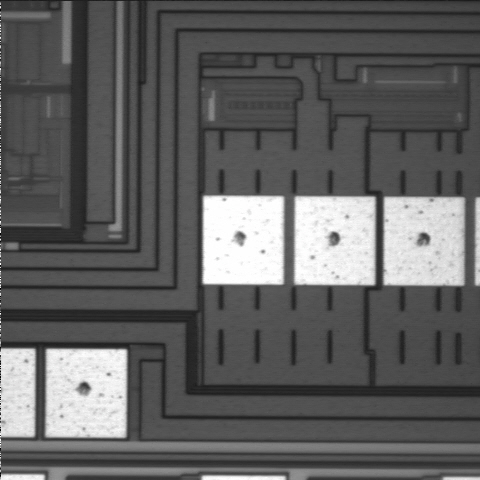pad: (203, 196, 284, 285), (294, 196, 375, 285), (46, 349, 127, 438), (384, 197, 464, 285)
